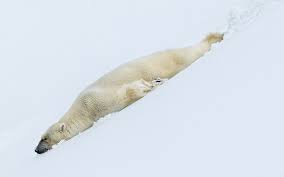PolarBear: (31, 29, 228, 157)
